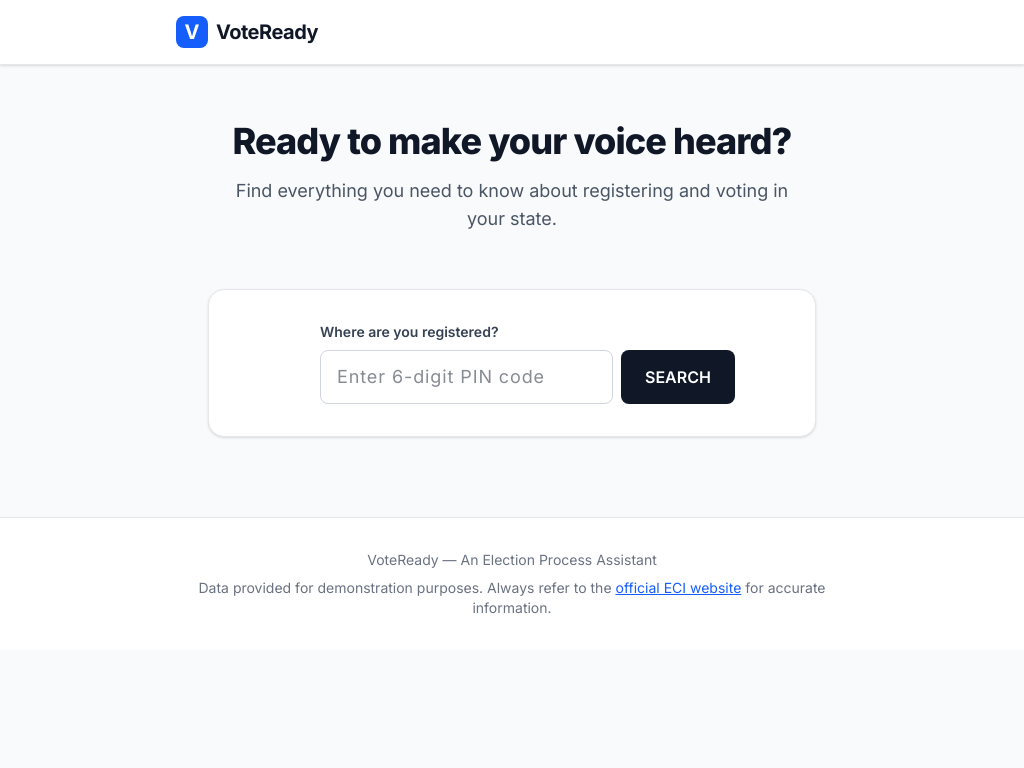
Test: Home page flow › opens the state picker when API returns 500 error
Step 1. Type "110001" into the field labelled "Where are you registered?" → [466, 377], box [320, 350, 613, 404]
Wait 300 ms
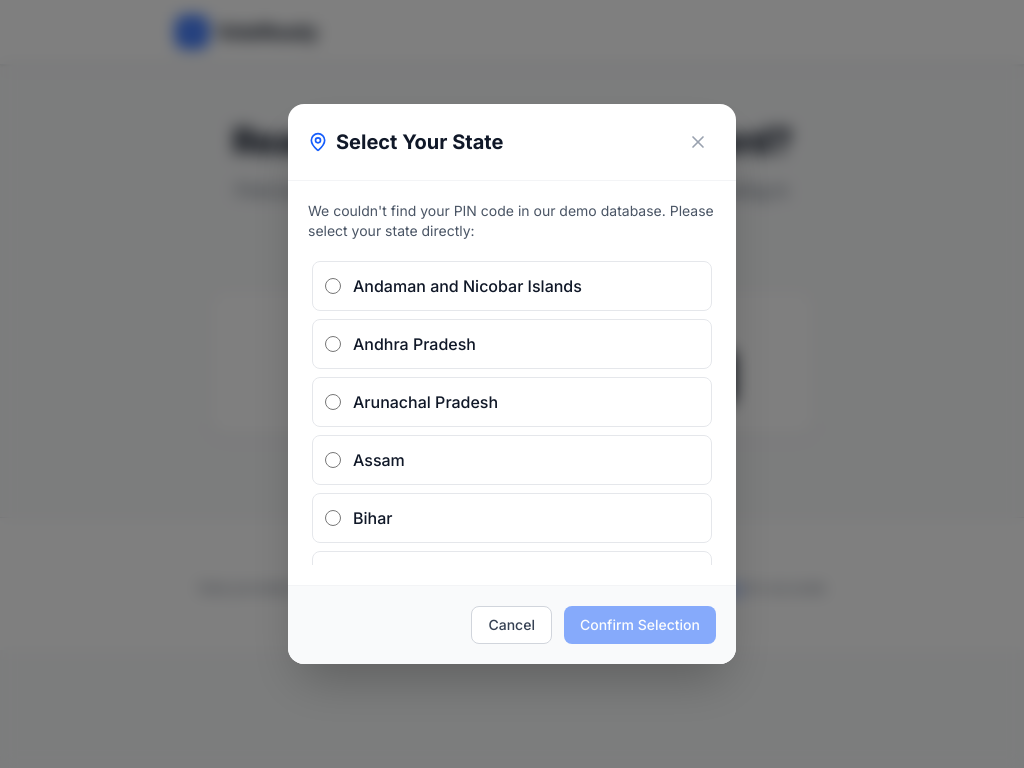
Now the dialog "Select Your State" is shown, box [288, 104, 736, 664]
